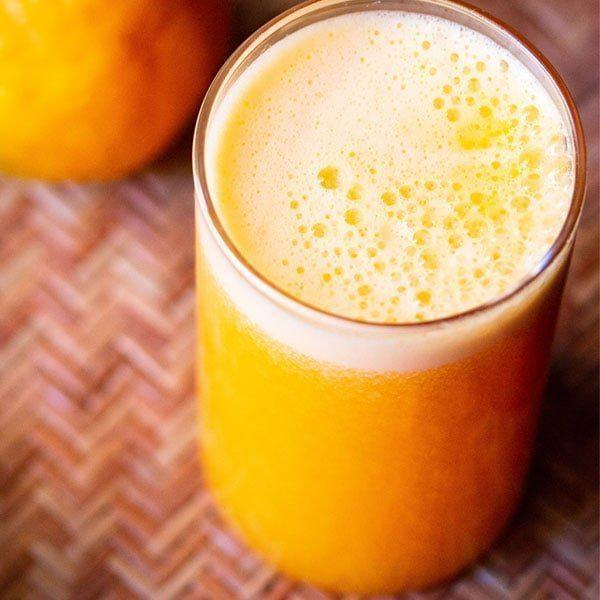glass-normal: (188, 0, 589, 599)
